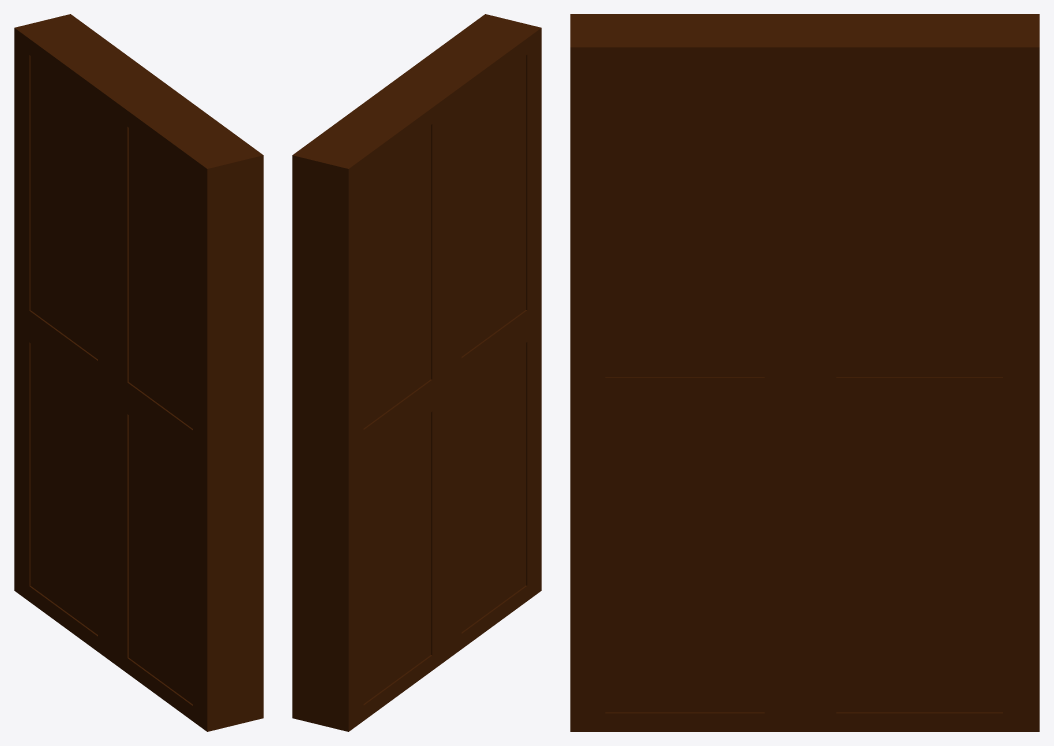
Rendered from door.fbx.
3 renders of one model, left to right at view 1: azimuth 30°, elevation 25°; view 2: azimuth 150°, elevation 25°; view 3: azimuth 270°, elevation 25°, orthographic. The views are drawn at different scales.
Visible parts, largest first — view 1: pCube1; view 2: pCube1; view 3: pCube1.
Part boxes in pixels (left/top/right/bottom): pCube1: left=14, top=14, right=263, bottom=731; pCube1: left=292, top=14, right=541, bottom=731; pCube1: left=570, top=14, right=1039, bottom=731.
Bounding box in the file's own units: 0.1862 × 1.78 × 1.1.
